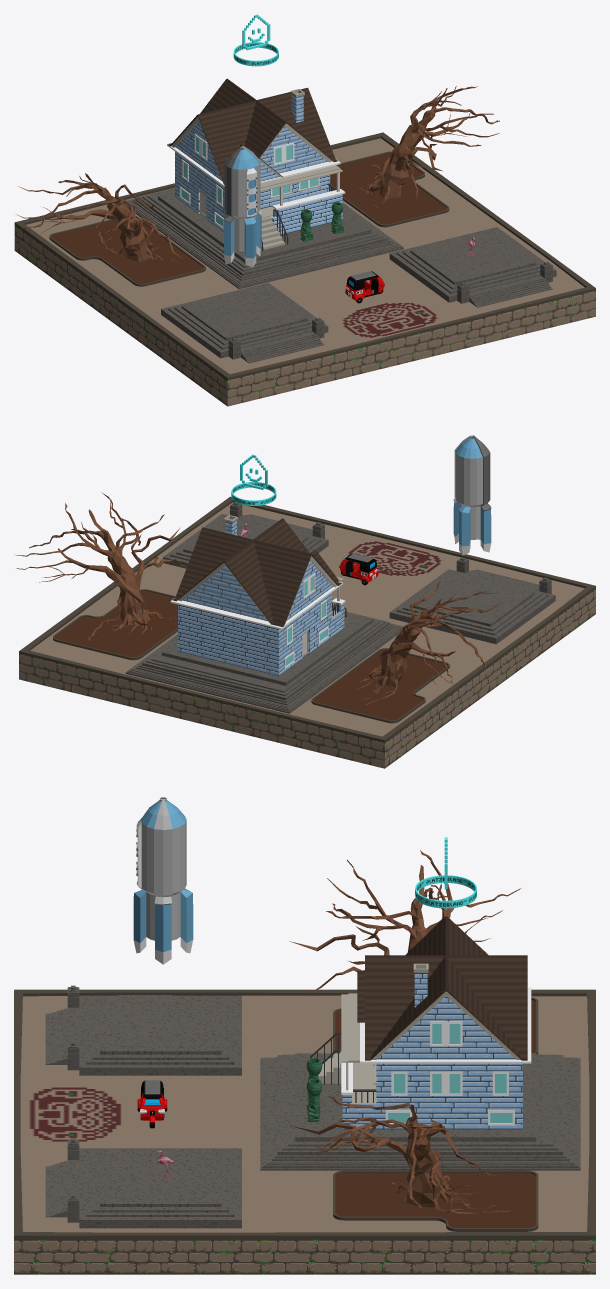
3 renders of one model, top to bottom at view 1: azimuth 30°, elevation 25°; view 2: azimuth 150°, elevation 25°; view 3: azimuth 270°, elevation 25°, orthographic. The views are drawn at different scales.
Visible parts, largest first — view 1: Cube.011, Cube.547, OBJRANDOM_ROCKETSHIP, TYPE_PREMIUM, VEHICLES_TUC_TUC; view 2: Cube.011, Cube.547, OBJRANDOM_ROCKETSHIP, TYPE_PREMIUM, VEHICLES_TUC_TUC; view 3: Cube.011, Cube.547, OBJRANDOM_ROCKETSHIP, TYPE_PREMIUM, VEHICLES_TUC_TUC.
Boxes of the visible parts, x1,y1,x2,y2 form: Cube.011: (14, 86, 595, 406); Cube.547: (167, 78, 345, 250); OBJRANDOM_ROCKETSHIP: (223, 146, 261, 267); TYPE_PREMIUM: (233, 14, 278, 66); VEHICLES_TUC_TUC: (345, 271, 384, 303); Cube.011: (14, 492, 595, 768); Cube.547: (170, 515, 346, 675); OBJRANDOM_ROCKETSHIP: (453, 435, 491, 555); TYPE_PREMIUM: (231, 454, 276, 505); VEHICLES_TUC_TUC: (339, 553, 378, 585); Cube.011: (14, 850, 595, 1274); Cube.547: (310, 916, 531, 1129); OBJRANDOM_ROCKETSHIP: (133, 797, 193, 964); TYPE_PREMIUM: (415, 837, 476, 908); VEHICLES_TUC_TUC: (137, 1080, 167, 1128).
Bounding box in the file's own units: 5099 × 2444 × 4000.
Materials: 41 (7 with a texture image).
